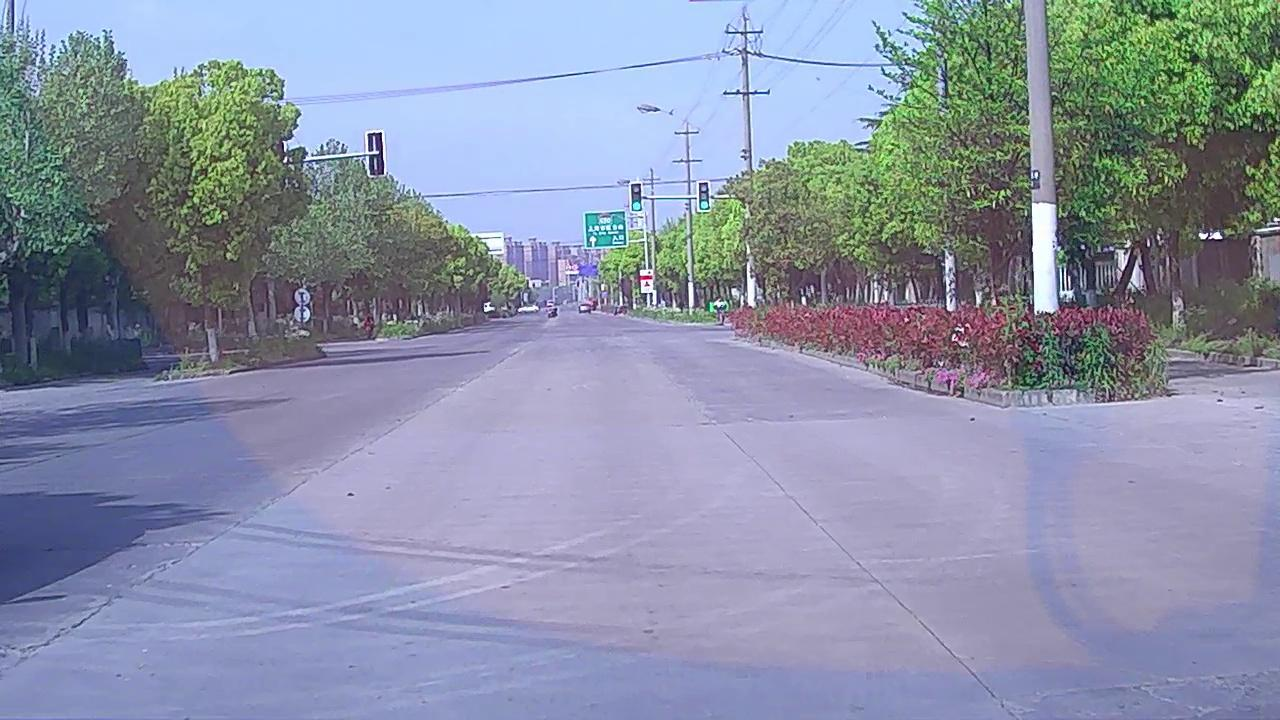traffic_light: (630, 184, 641, 210), (699, 182, 708, 211)
